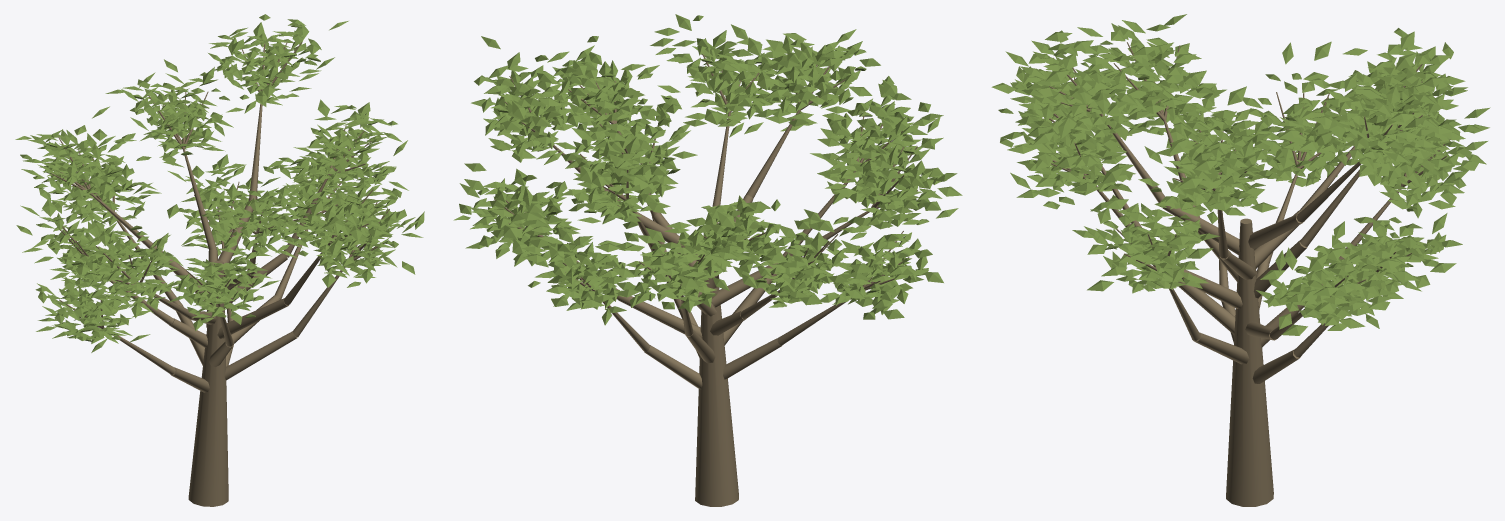
The model's file is oak_3.glb.
The picture shows the model from 3 angles, left to right: view 1: azimuth 30°, elevation 25°; view 2: azimuth 150°, elevation 25°; view 3: azimuth 270°, elevation 25°; orthographic projection. The views are drawn at different scales.
Visible parts, largest first — view 1: oak_3; view 2: oak_3; view 3: oak_3.
Boxes of the visible parts, x1,y1,x2,y2 form: oak_3: [15, 14, 424, 506]; oak_3: [453, 14, 962, 506]; oak_3: [991, 14, 1490, 506].
Bounding box in the file's own units: 4.32 × 4.35 × 4.04.
